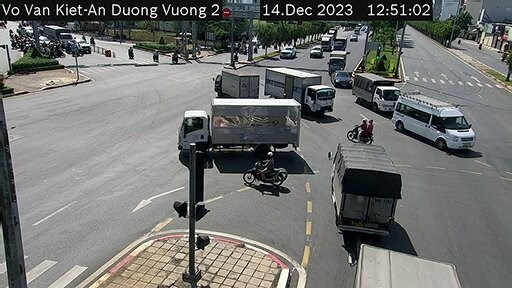car: (401, 88, 476, 156)
motorbike: (246, 152, 281, 189), (345, 113, 382, 143)
truck: (340, 227, 463, 288), (324, 141, 410, 228), (158, 104, 306, 154), (273, 62, 337, 124), (209, 69, 268, 107), (361, 72, 408, 117)
